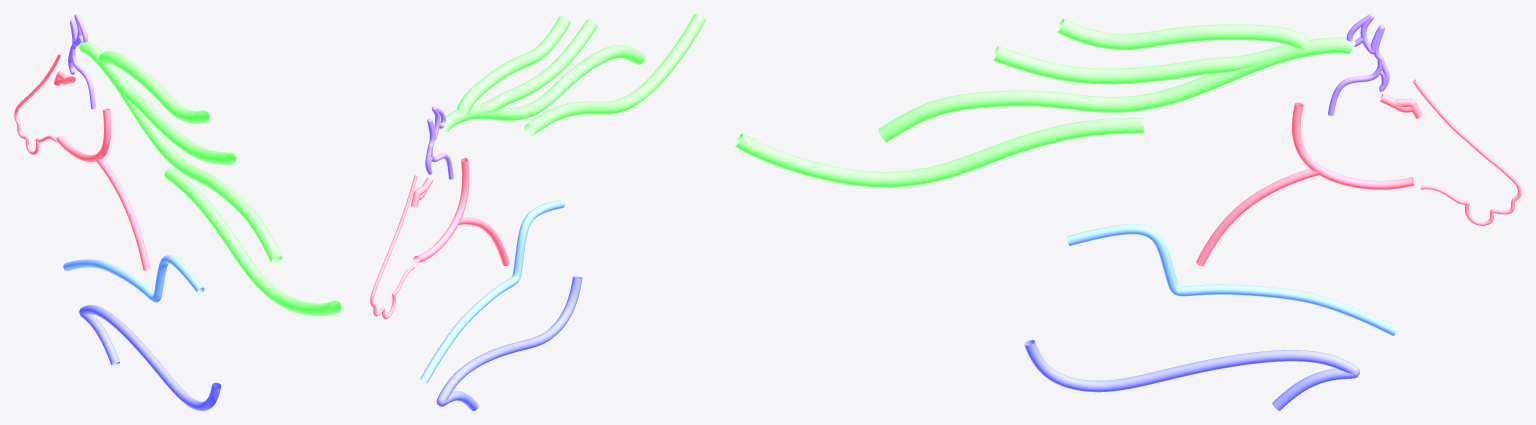
File: horse_neon_sign.glb
3 renders of one model, left to right at view 1: azimuth 30°, elevation 25°; view 2: azimuth 150°, elevation 25°; view 3: azimuth 270°, elevation 25°, orthographic. The views are drawn at different scales.
Parts seen in each view (by area): view 1: NurbsPath.004_4, NurbsPath.003_3, NurbsPath.001_1, NurbsPath.002_2, NurbsPath.005_5, NurbsPath_0; view 2: NurbsPath.004_4, NurbsPath.003_3, NurbsPath.002_2, NurbsPath.001_1, NurbsPath_0, NurbsPath.005_5; view 3: NurbsPath.004_4, NurbsPath.003_3, NurbsPath.002_2, NurbsPath.001_1, NurbsPath.005_5, NurbsPath_0.
Part boxes in pixels (<box>): NurbsPath.004_4: <box>79,41,341,315</box>; NurbsPath.003_3: <box>79,305,221,410</box>; NurbsPath.001_1: <box>56,108,150,270</box>; NurbsPath.002_2: <box>63,255,204,302</box>; NurbsPath.005_5: <box>68,14,95,109</box>; NurbsPath_0: <box>14,54,60,154</box>; NurbsPath.004_4: <box>439,14,705,135</box>; NurbsPath.003_3: <box>436,276,582,410</box>; NurbsPath.002_2: <box>420,200,564,383</box>; NurbsPath.001_1: <box>413,158,509,265</box>; NurbsPath_0: <box>370,175,417,318</box>; NurbsPath.005_5: <box>425,106,453,179</box>; NurbsPath.004_4: <box>734,18,1355,187</box>; NurbsPath.003_3: <box>1024,340,1359,410</box>; NurbsPath.002_2: <box>1067,224,1397,336</box>; NurbsPath.001_1: <box>1196,102,1414,266</box>; NurbsPath.005_5: <box>1328,14,1389,115</box>; NurbsPath_0: <box>1412,79,1521,225</box>.
Bounding box in the file's own units: 0.079 × 2.19 × 3.96.
